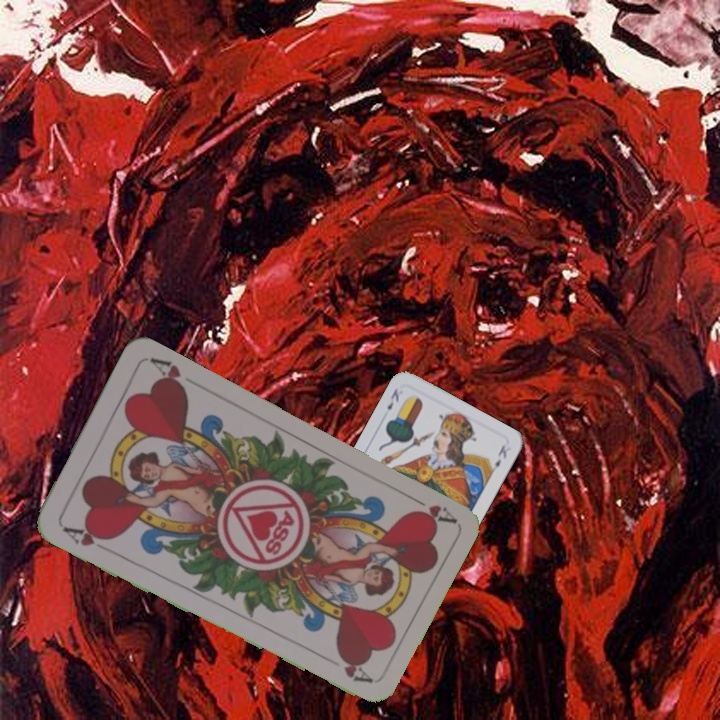EK: (383, 384, 402, 413)
HA: (402, 490, 457, 527), (59, 522, 114, 549)
